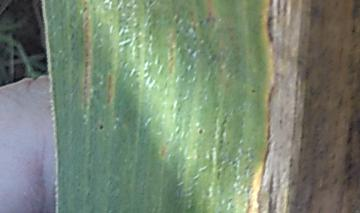tarspot: (346, 126, 352, 146), (328, 151, 337, 161), (217, 137, 225, 146), (97, 123, 104, 132), (197, 127, 204, 135), (249, 87, 257, 94), (145, 1, 154, 7), (81, 6, 88, 13)
